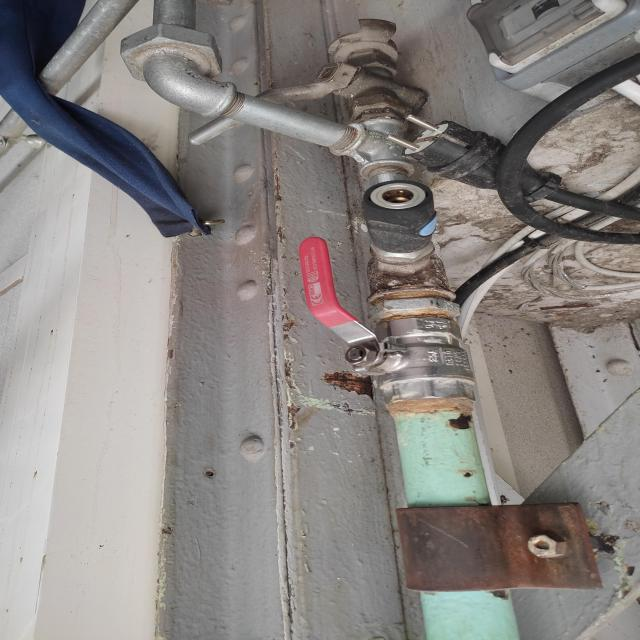opened_valve: (288, 232, 469, 403)
